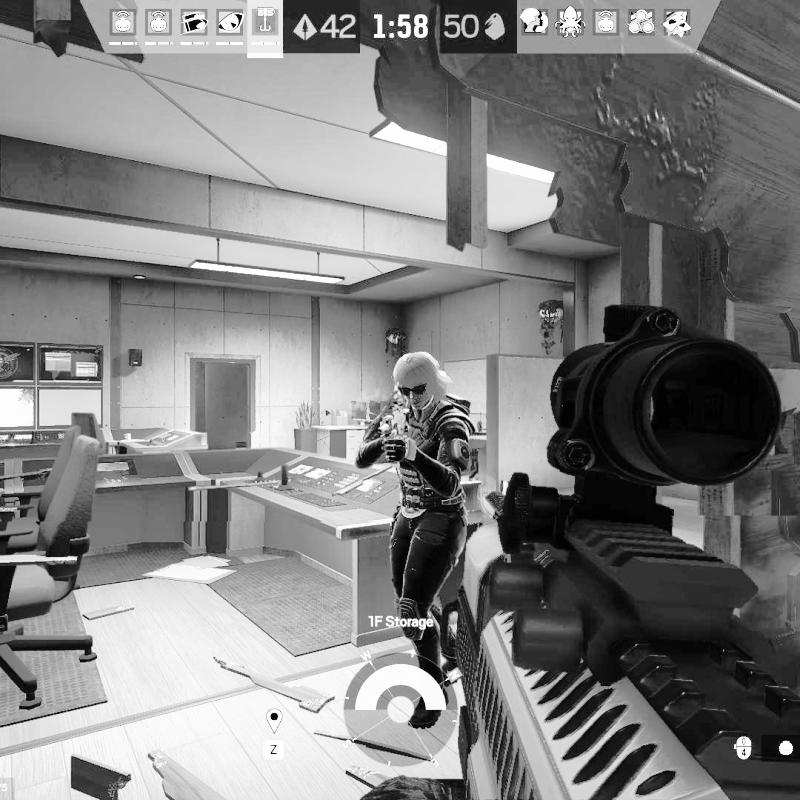Character: (352, 349, 479, 731)
Head: (393, 351, 453, 412)
